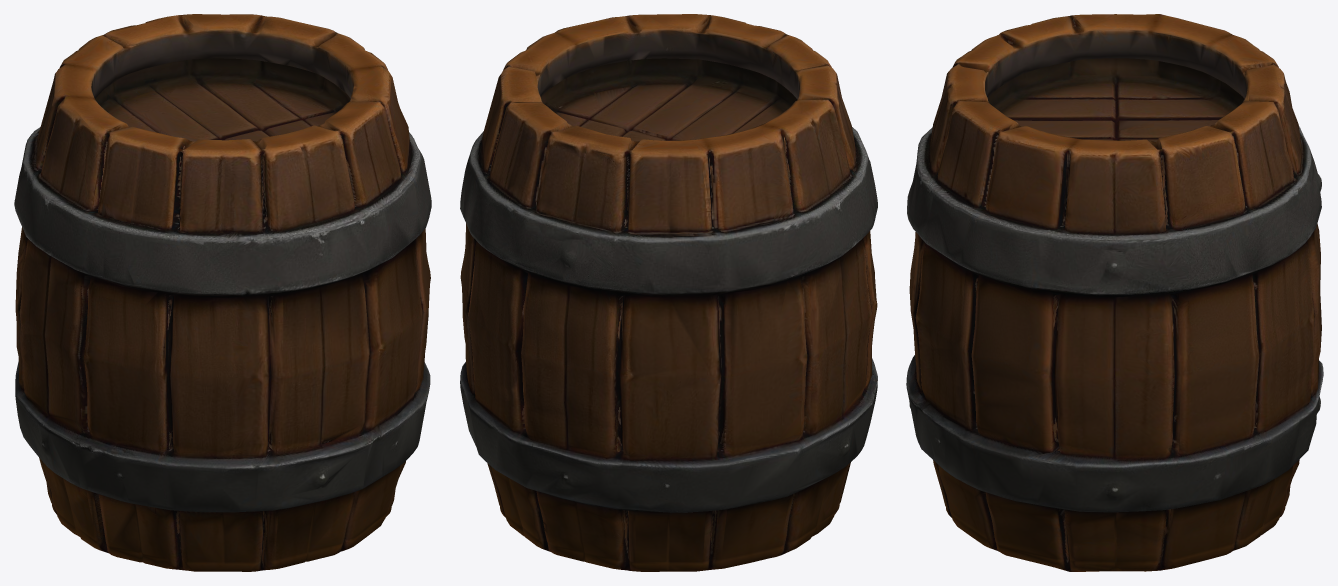
Rendered from barriles.glb.
The picture shows the model from 3 angles, left to right: view 1: azimuth 30°, elevation 25°; view 2: azimuth 150°, elevation 25°; view 3: azimuth 270°, elevation 25°; orthographic projection.
Parts seen in each view (by area): view 1: barriles; view 2: barriles; view 3: barriles.
Part boxes in pixels (<box>): barriles: <box>14,14,431,571</box>; barriles: <box>460,14,877,571</box>; barriles: <box>906,14,1323,571</box>.
Size of what is drawn, in the model's own units: 0.9748 by 1.1 by 0.9763.
Materials: 1 (1 with a texture image).
